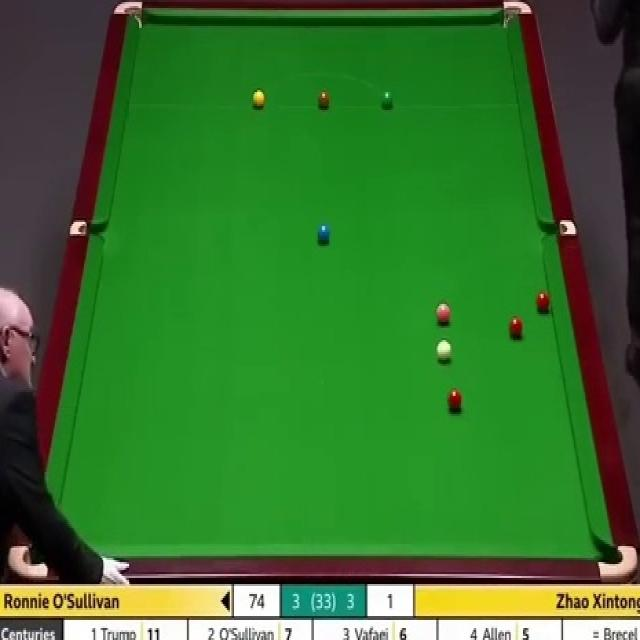pocket: (7, 540, 53, 582), (594, 543, 637, 582), (501, 0, 530, 32), (113, 0, 143, 28), (66, 218, 104, 236), (540, 220, 574, 235)
